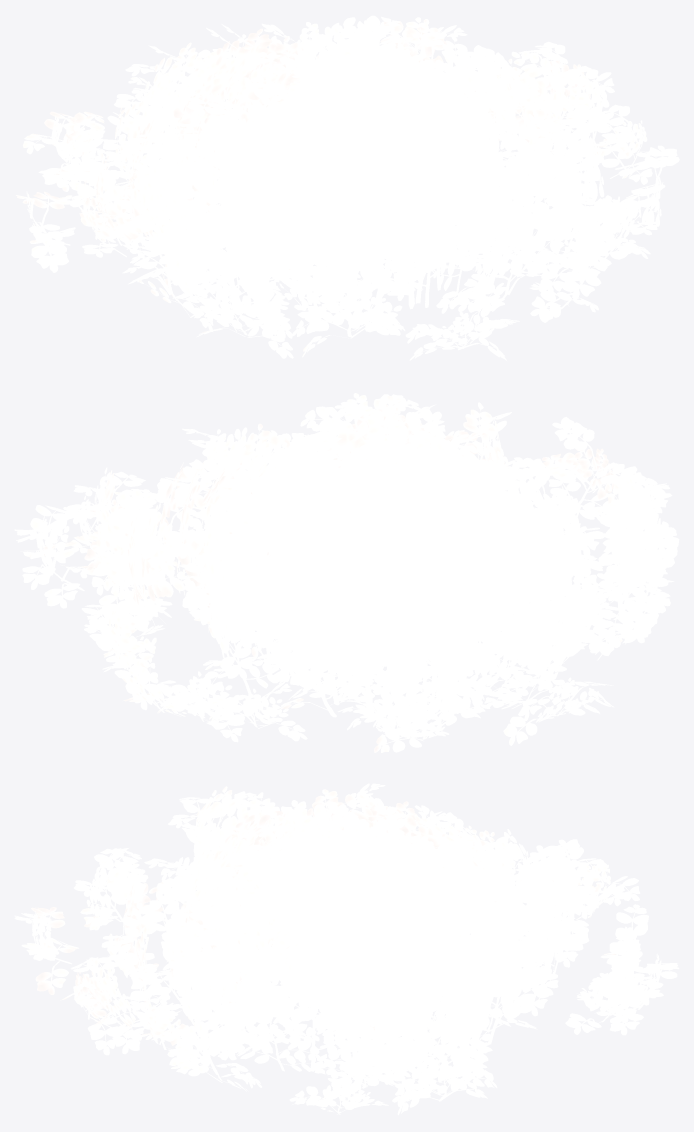
The picture shows the model from 3 angles, top to bottom: view 1: azimuth 30°, elevation 25°; view 2: azimuth 150°, elevation 25°; view 3: azimuth 270°, elevation 25°; orthographic projection. The views are drawn at different scales.
Visible parts, largest first — view 1: SM_DR_Medium_Bush_Meadows_B_LOD0; view 2: SM_DR_Medium_Bush_Meadows_B_LOD0; view 3: SM_DR_Medium_Bush_Meadows_B_LOD0.
Boxes of the visible parts, box(x1,y1,x2,y2) form: SM_DR_Medium_Bush_Meadows_B_LOD0: box(16, 15, 679, 360); SM_DR_Medium_Bush_Meadows_B_LOD0: box(14, 393, 679, 752); SM_DR_Medium_Bush_Meadows_B_LOD0: box(14, 783, 679, 1115).
Size of the model in its own units: 3.39 by 1.26 by 3.62.
1 material, 1 textured.
